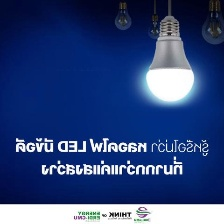light_bulb: (143, 15, 197, 106), (200, 0, 223, 46), (112, 0, 134, 32), (144, 10, 165, 40)
